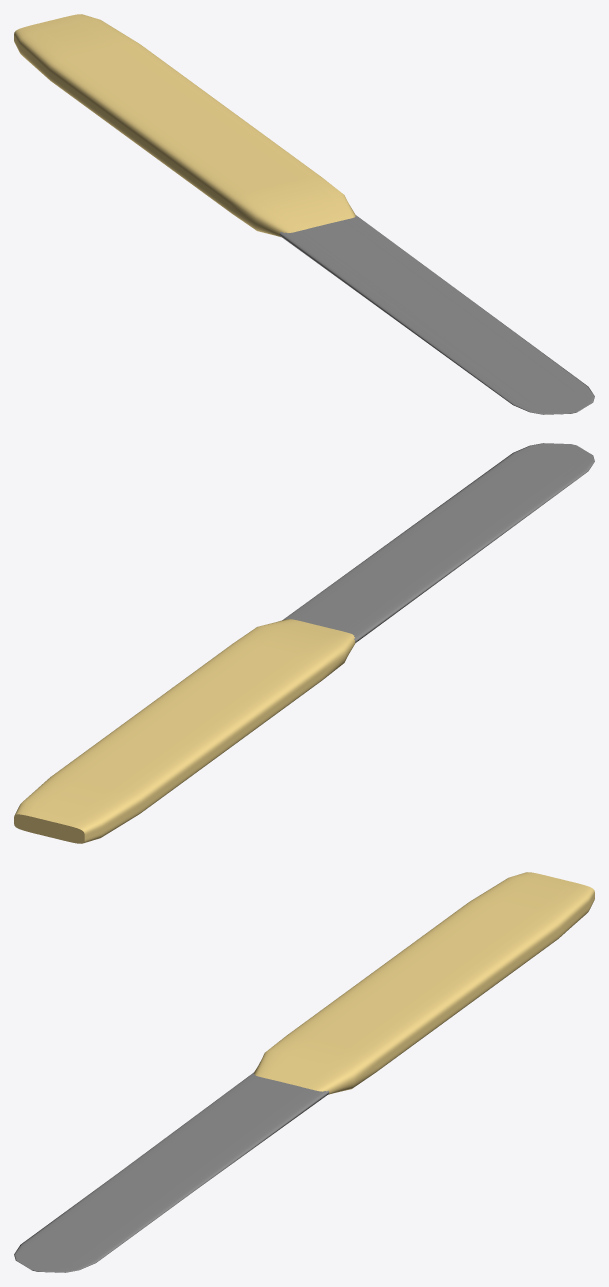
3 views of the same model, one above another, from view 1: azimuth 30°, elevation 25°; view 2: azimuth 150°, elevation 25°; view 3: azimuth 330°, elevation 25° (orthographic).
Visible parts, largest first — view 1: gold, blade; view 2: gold, blade; view 3: gold, blade.
Boxes of the visible parts, x1,y1,x2,y2 form: gold: [14, 14, 355, 237]; blade: [279, 215, 594, 414]; gold: [14, 619, 355, 843]; blade: [282, 443, 594, 643]; gold: [254, 872, 594, 1094]; blade: [14, 1072, 329, 1272].
Bounding box in the file's own units: 0.0183 × 0.00406 × 0.18.
